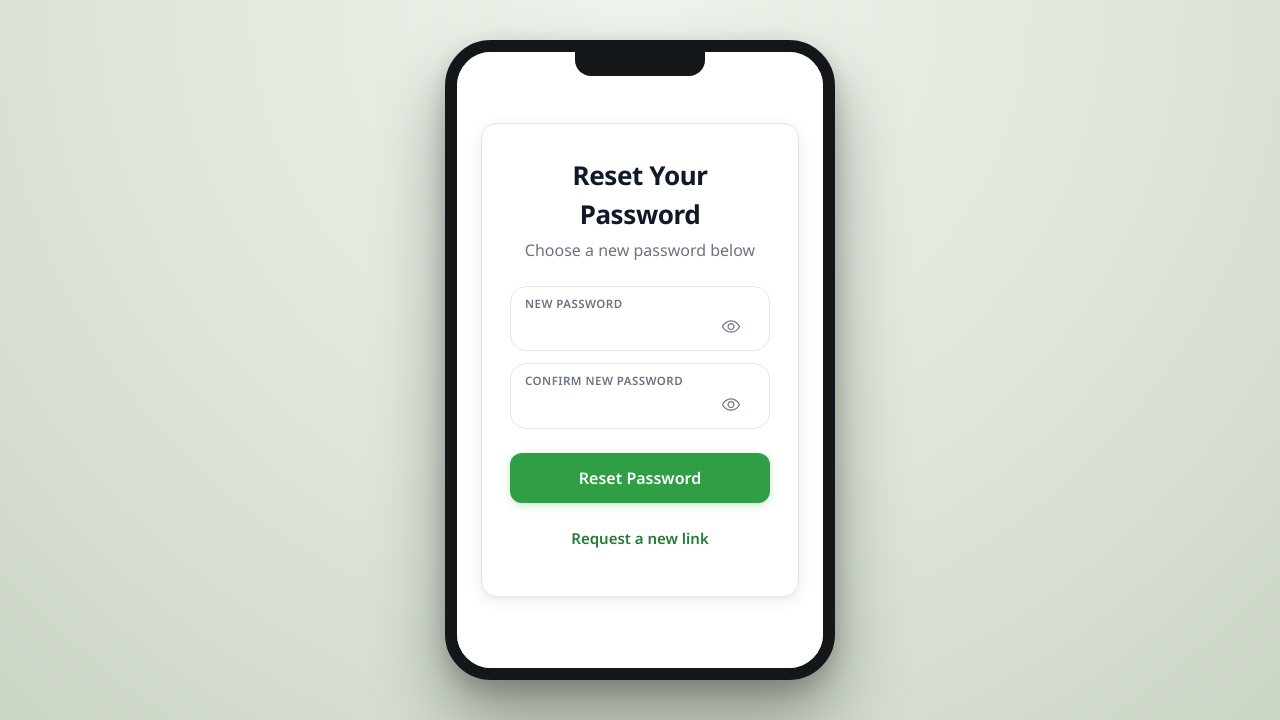
Test: ResetPasswordPage › blocks submission client-side when the two password fields don't match
Type "NewSecurePass#1" into the password field labelled "New Password" at (640, 327), box [525, 314, 755, 340]
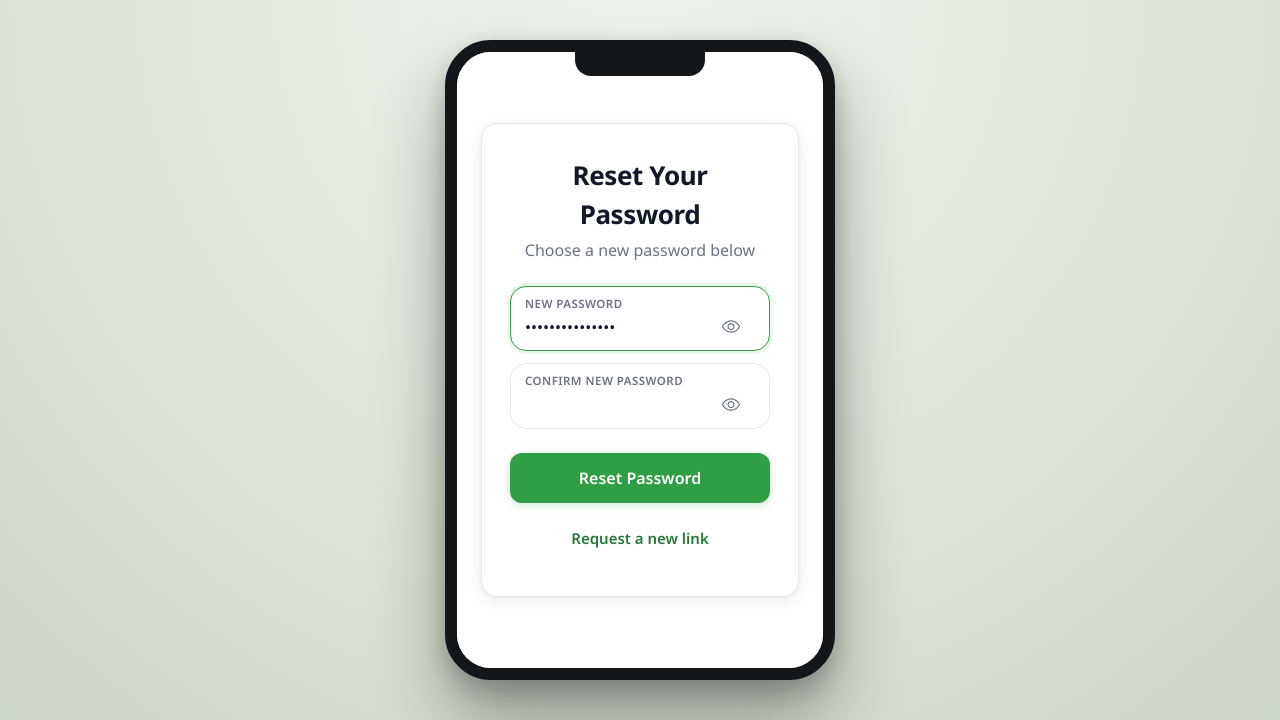
Type "somethingelse" into the password field labelled "Confirm New Password" at (640, 404), box [525, 392, 755, 418]
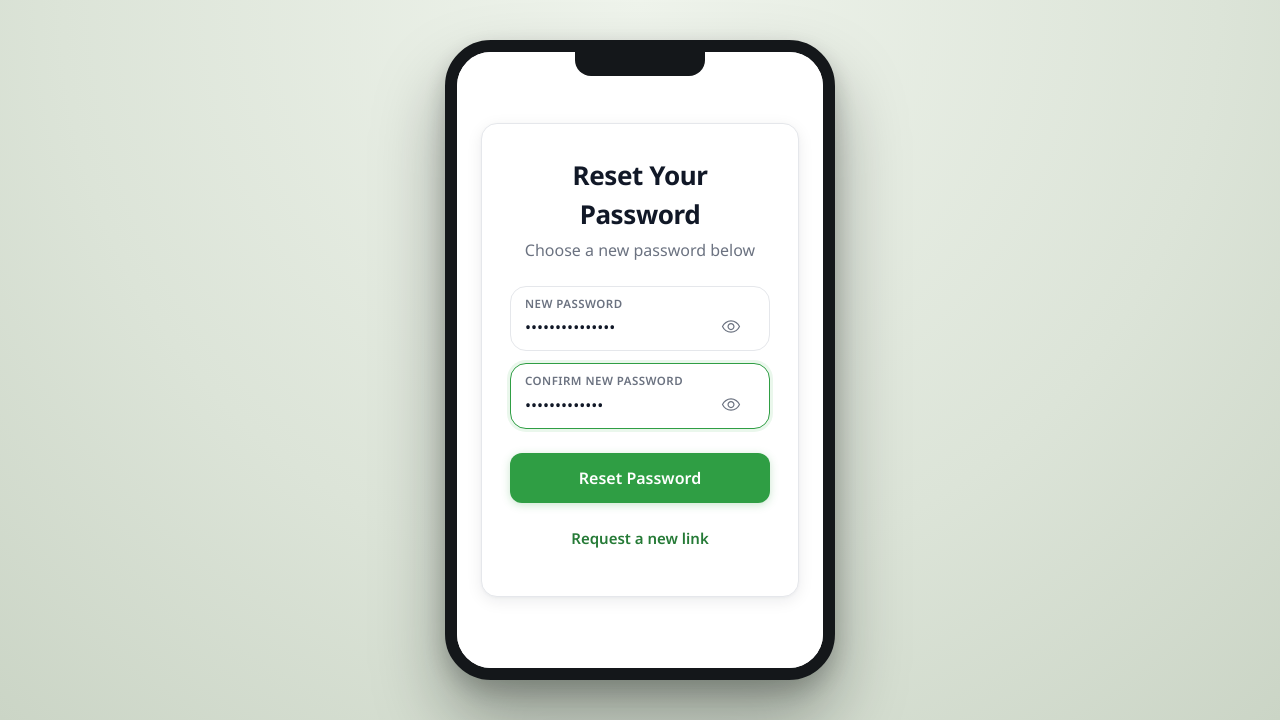
Click the button "Reset Password" at (640, 478), box [510, 452, 770, 502]
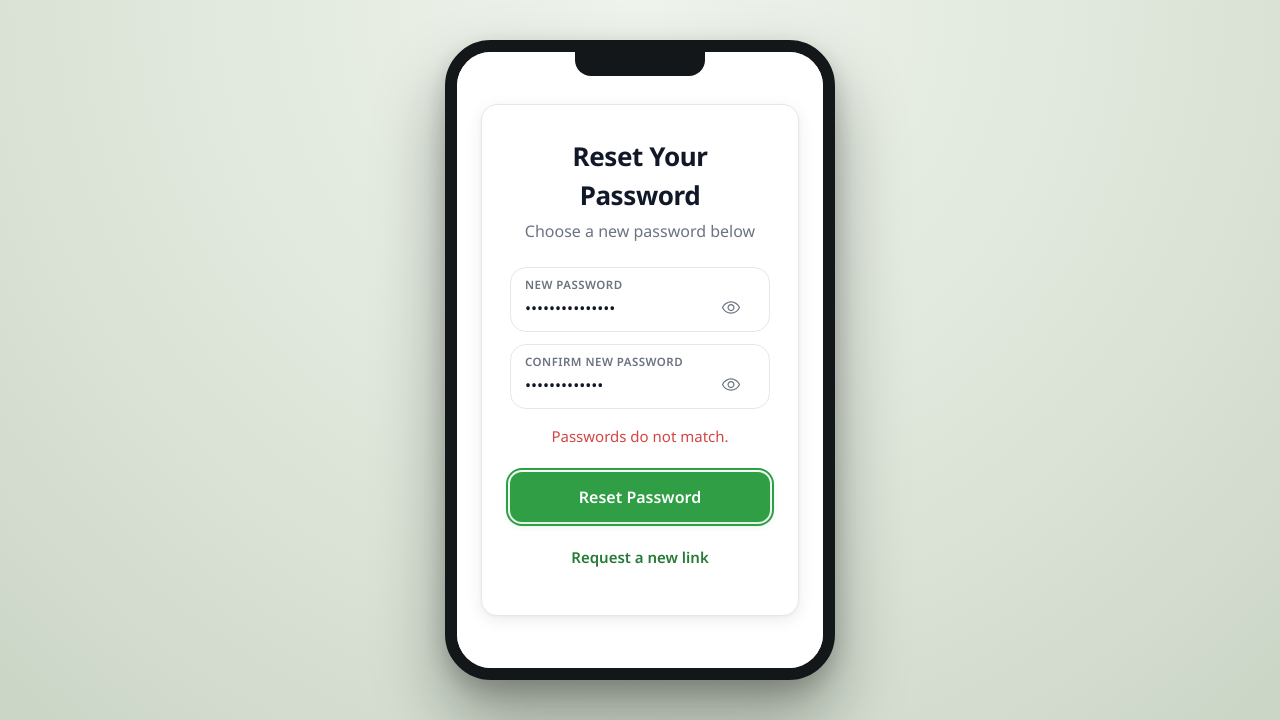
Result: the message shows "do not match" at [551, 426, 728, 446]
